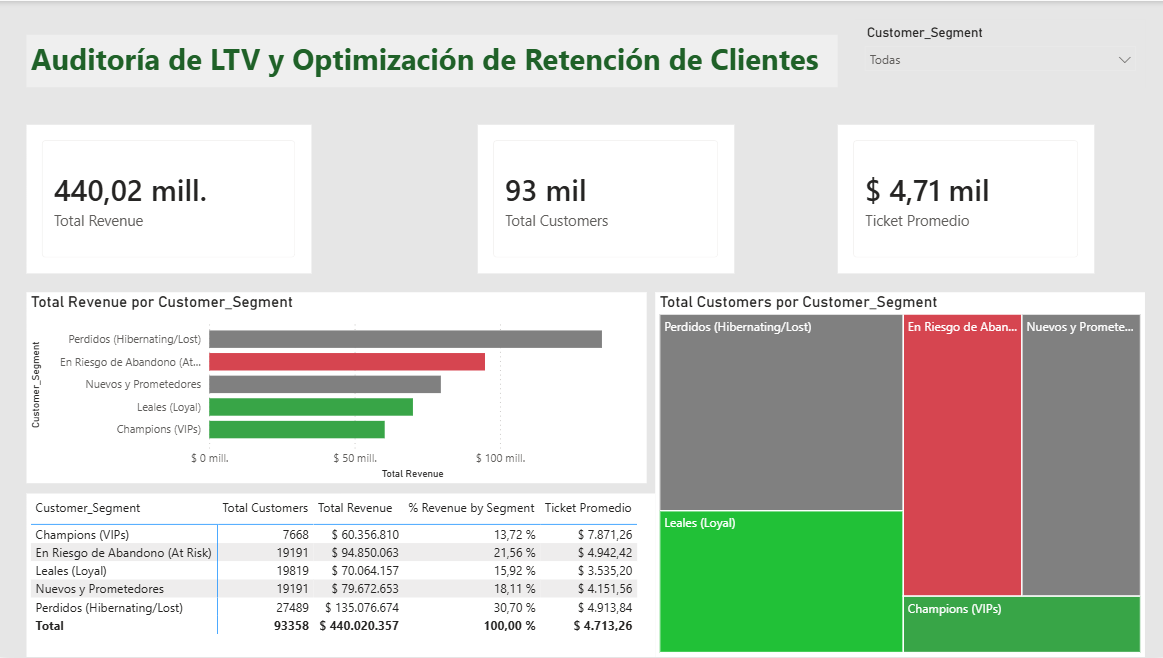

What the dashboard file says about the page in this screenshot:
{"tool":"powerbi","page":{"name":"Summary","canvas":[1280,720],"ordinal":0},"visuals":[{"type":"cardVisual","fields":{"Data":["Medidas.Total Revenue"]},"box":[30.2,135.8,312.9,163.3],"z":0},{"type":"cardVisual","fields":{"Data":["Medidas.Total Customers"]},"box":[525.6,135.8,281.3,163.3],"z":1},{"type":"cardVisual","fields":{"Data":["Medidas.Ticket Promedio"]},"box":[920.8,135.8,281.3,163.3],"z":2},{"type":"textbox","box":[30.2,37,890.6,57.6],"z":3},{"type":"clusteredBarChart","fields":{"Category":["rfm_segments_final.Customer_Segment"],"Y":["Medidas.Total Revenue"]},"box":[30.2,319.7,680.6,209.9],"z":4},{"type":"treemap","fields":{"Group":["rfm_segments_final.Customer_Segment"],"Values":["Medidas.Total Customers"]},"box":[720.4,319.7,537.9,400.7],"z":5},{"type":"slicer","fields":{"Values":["rfm_segments_final.Customer_Segment"]},"box":[940,20.6,318.4,91.9],"z":6},{"type":"pivotTable","fields":{"Rows":["rfm_segments_final.Customer_Segment"],"Values":["Medidas.Total Customers","Medidas.Total Revenue","Medidas.% Revenue by Segment","Medidas.Ticket Promedio"]},"box":[30.2,540.7,690.2,179.8],"z":7}]}

Visuals, with their boxes in screenshot pixels (x1, y1, x2, y2), scaled from the page's 1280x720 canvas onto the 1163x658 screenshot:
cardVisual - Medidas.Total Revenue: box=[27, 124, 312, 273]
cardVisual - Medidas.Total Customers: box=[478, 124, 733, 273]
cardVisual - Medidas.Ticket Promedio: box=[837, 124, 1092, 273]
textbox: box=[27, 34, 837, 86]
clusteredBarChart - rfm_segments_final.Customer_Segment x Medidas.Total Revenue: box=[27, 292, 646, 484]
treemap - rfm_segments_final.Customer_Segment x Medidas.Total Customers: box=[655, 292, 1143, 657]
slicer - rfm_segments_final.Customer_Segment: box=[854, 19, 1143, 103]
pivotTable - rfm_segments_final.Customer_Segment x Medidas.Total Customers: box=[27, 494, 655, 657]
